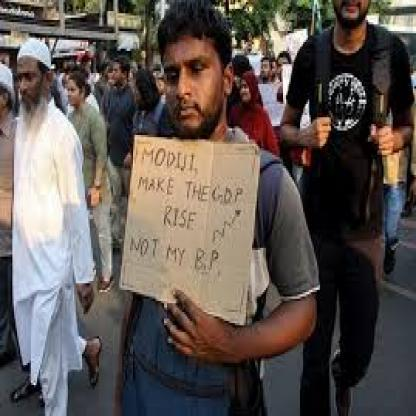BANNER: (119, 135, 268, 327)
